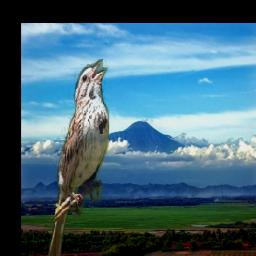Sparrow: (49, 60, 110, 256)
